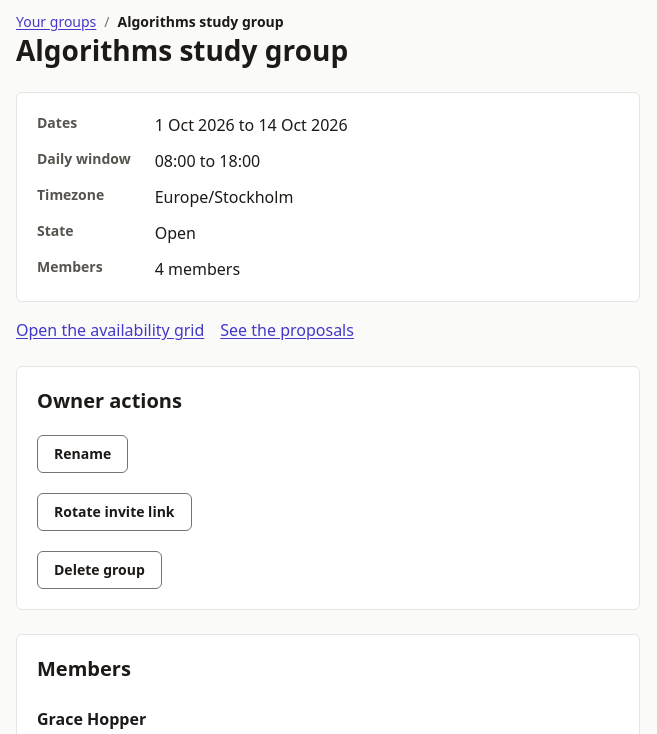
Scenario: GroupDetailPage, rename › sends only the changed property, with If-Match from the read's ETag
Click the button "Rename".
click(83, 454)  # box [37,435,128,473]
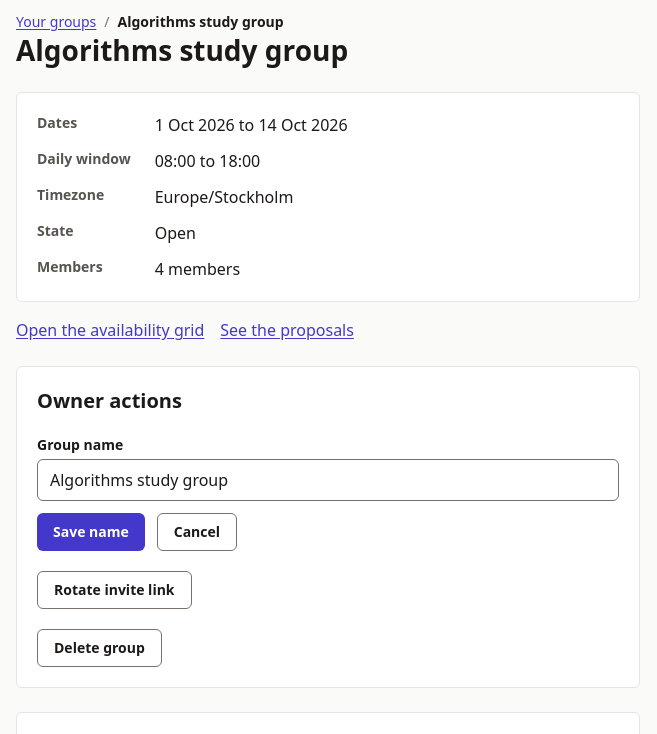
Replace the text in the field labelled "Group name" with "Algorithms reading group" at (328, 480), box [37,459,619,501]
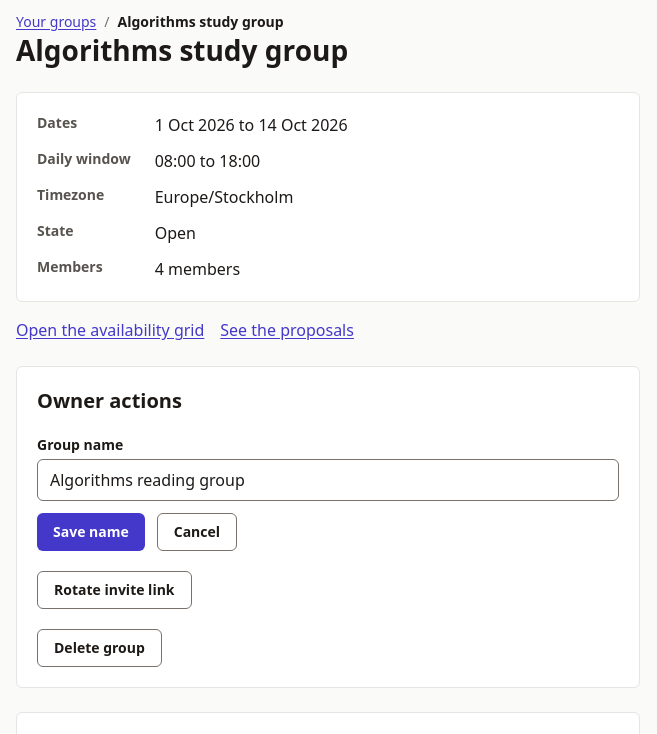
Click the button "Save name".
click(91, 532)  # box [37,513,145,551]
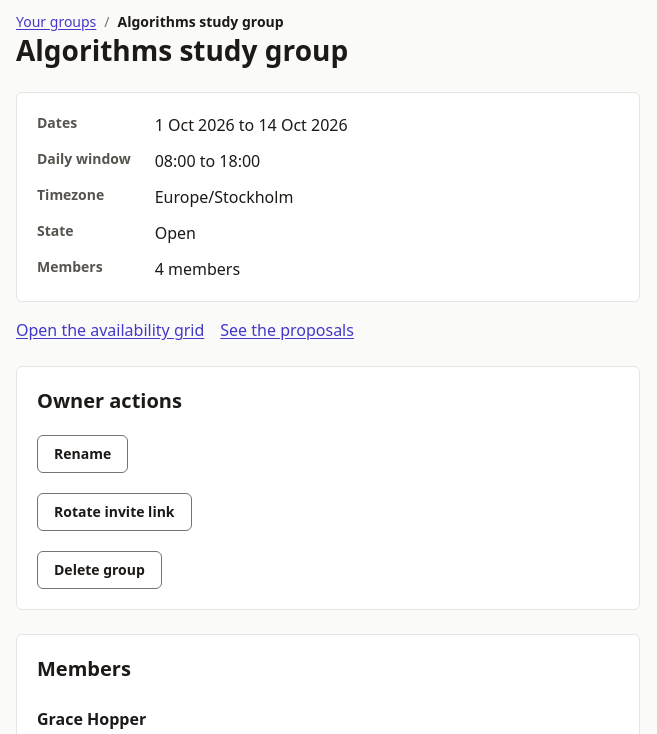
Result: the button "Rename" is shown at [37,435,128,473]
